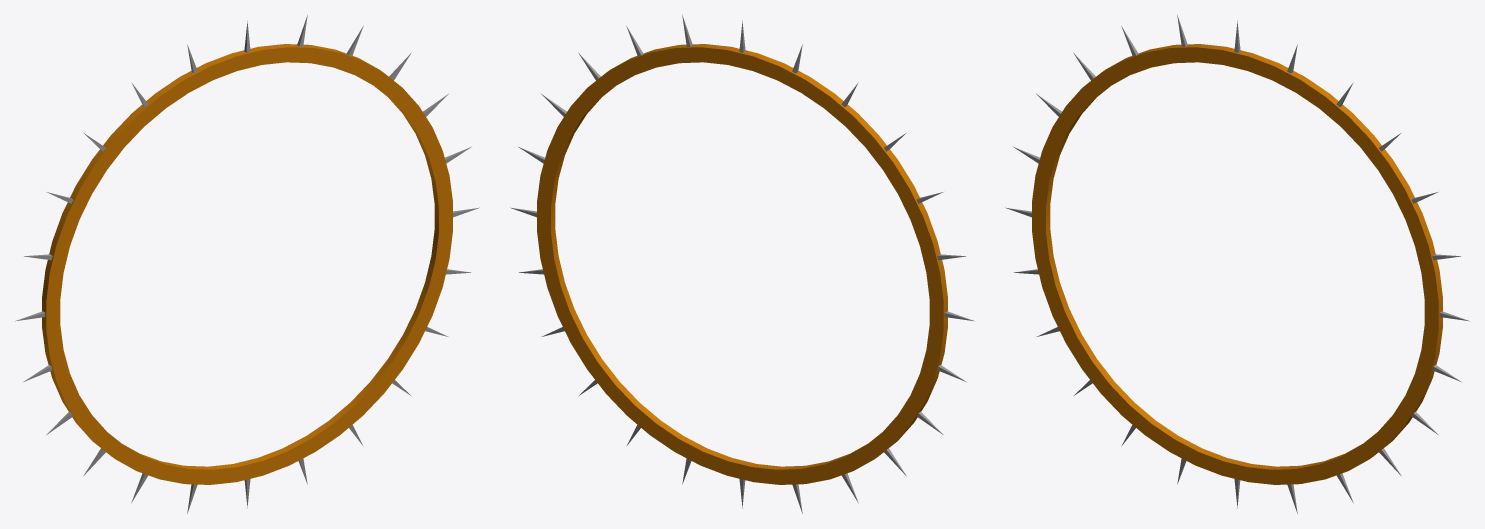
The model's file is Ring_One.fbx.
3 renders of one model, left to right at view 1: azimuth 30°, elevation 25°; view 2: azimuth 150°, elevation 25°; view 3: azimuth 330°, elevation 25°, orthographic.
Visible parts, largest first — view 1: Ring_One; view 2: Ring_One; view 3: Ring_One.
Boxes of the visible parts, x1=… form: Ring_One: x1=15, y1=15, x2=479, y2=513; Ring_One: x1=510, y1=15, x2=974, y2=513; Ring_One: x1=1005, y1=15, x2=1469, y2=513.
Bounding box in the file's own units: 184 × 3 × 184.
